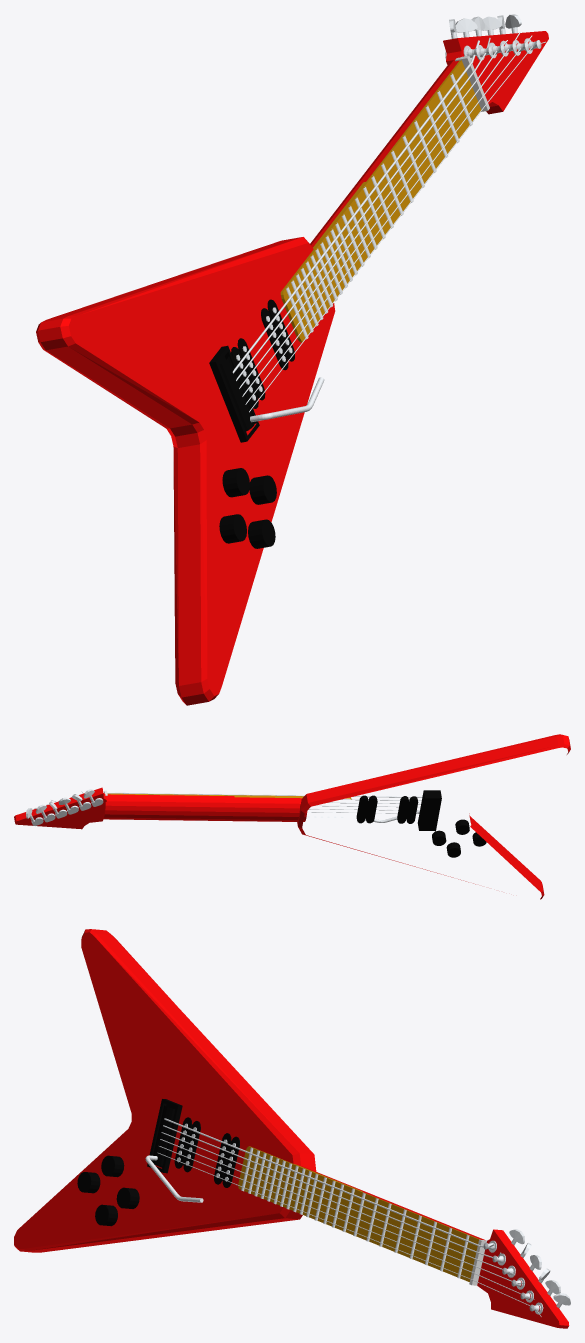
The model's file is FLYV.glb.
3 renders of one model, top to bottom at view 1: azimuth 30°, elevation 25°; view 2: azimuth 150°, elevation 25°; view 3: azimuth 270°, elevation 25°, orthographic. The views are drawn at different scales.
Visible parts, largest first — view 1: _0; view 2: _0; view 3: _0.
Boxes of the visible parts, x1=… form: _0: x1=36, y1=14, x2=548, y2=705; _0: x1=14, y1=734, x2=570, y2=899; _0: x1=14, y1=929, x2=570, y2=1328.
Bounding box in the file's own units: 6.65 × 2.97 × 5.18.
